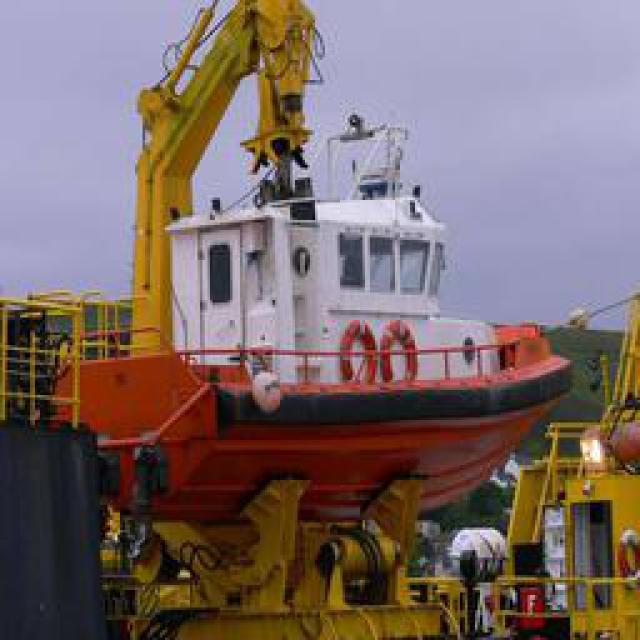Ship: (106, 95, 571, 463)
